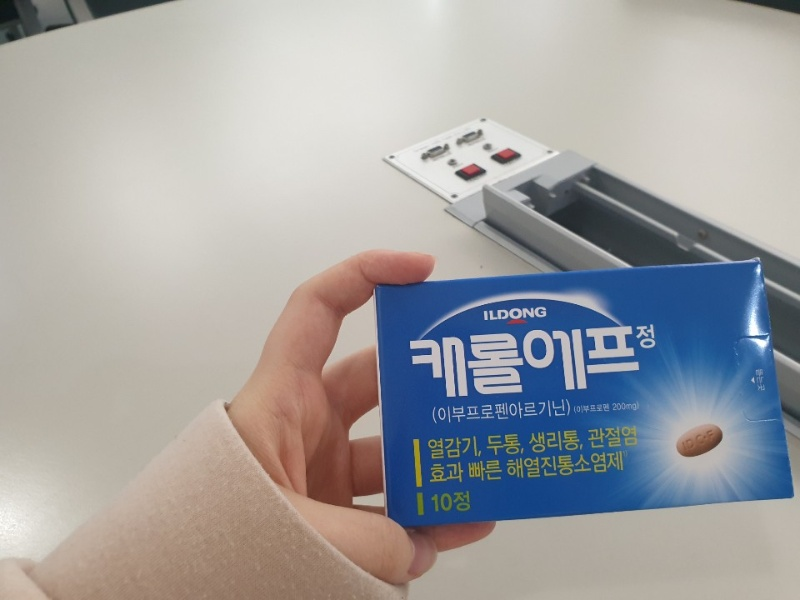carolF: (375, 260, 794, 526)
